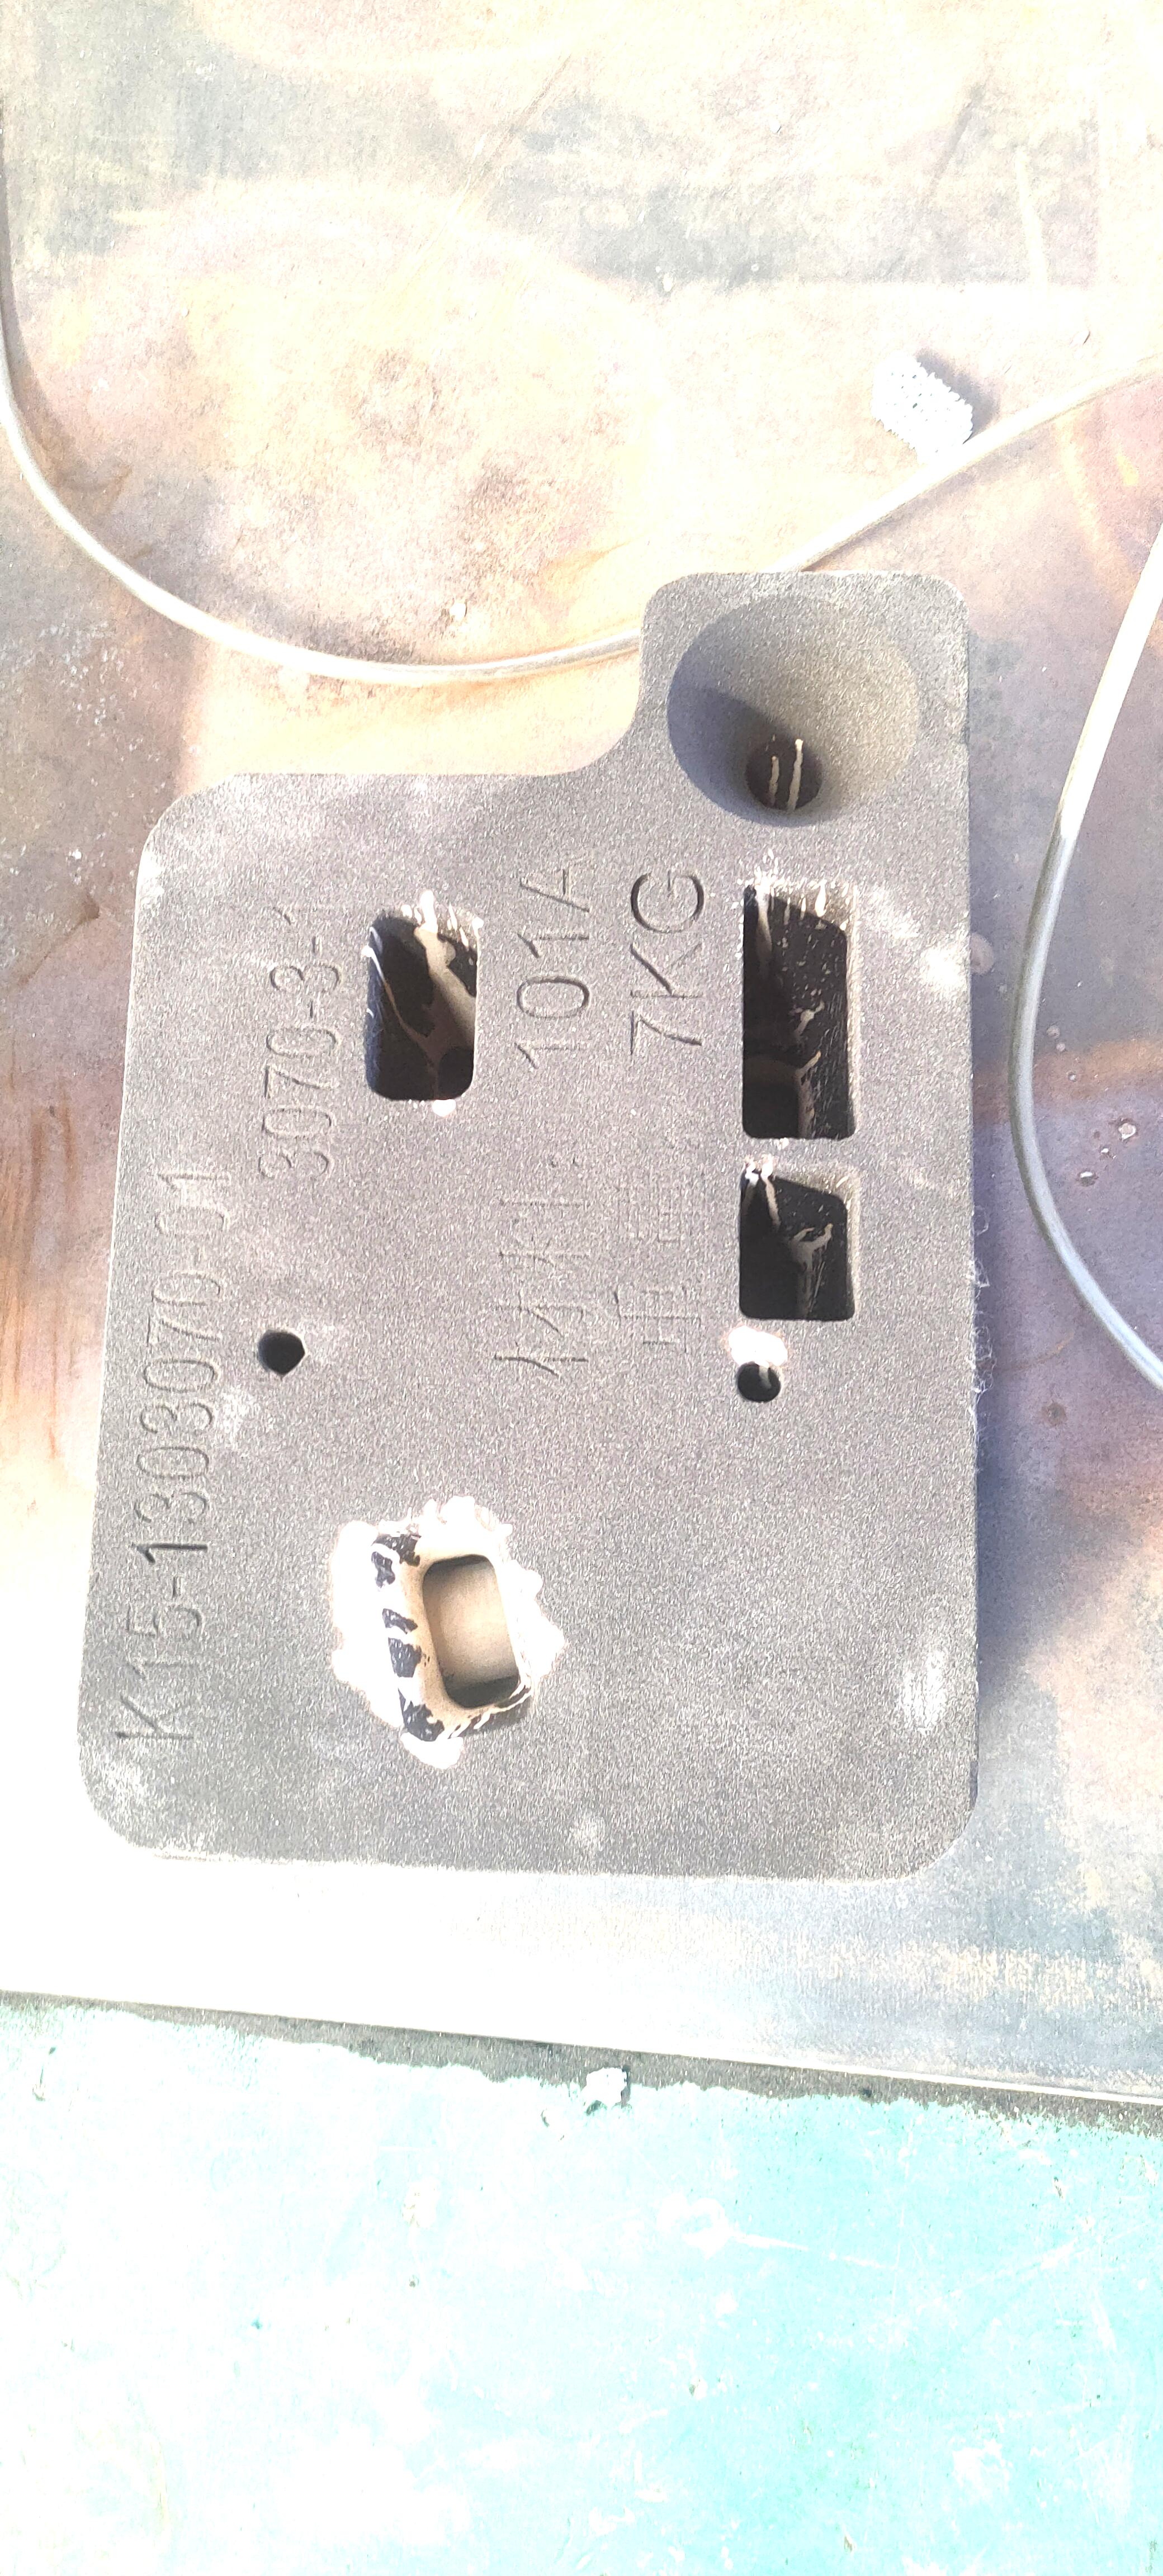pouring hole: (664, 590, 920, 831)
